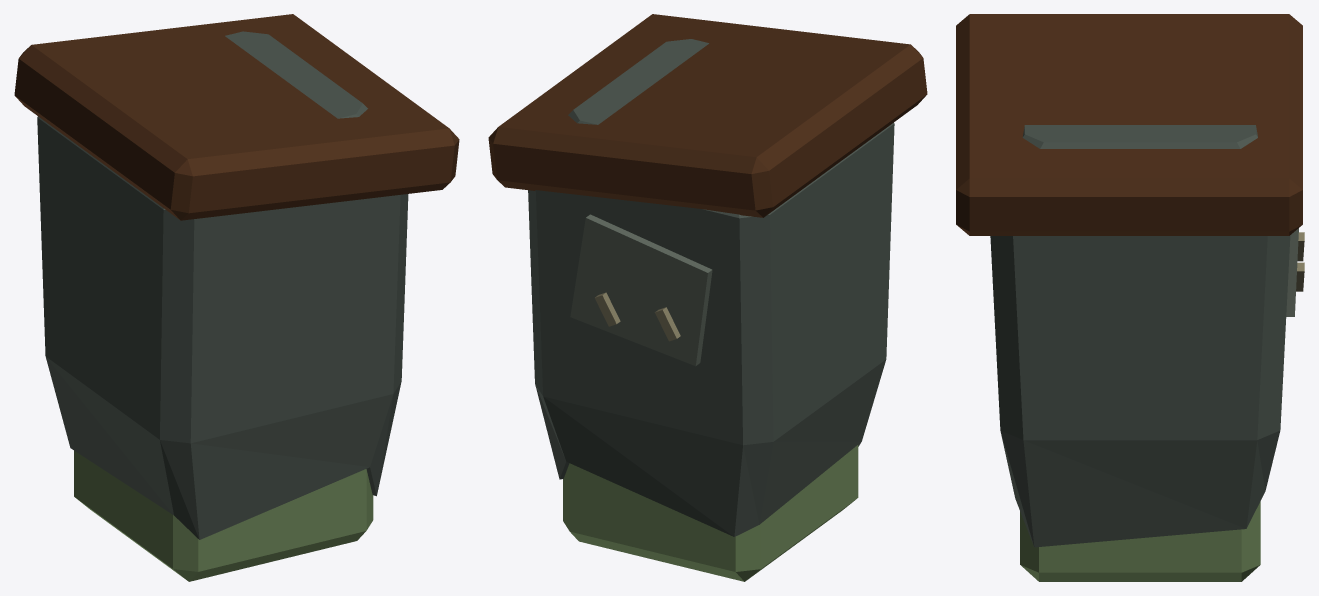
The model's file is ArmRight.glb.
The picture shows the model from 3 angles, left to right: view 1: azimuth 30°, elevation 25°; view 2: azimuth 150°, elevation 25°; view 3: azimuth 270°, elevation 25°; orthographic projection. The views are drawn at different scales.
Visible parts, largest first — view 1: Sculpture; view 2: Sculpture; view 3: Sculpture.
Boxes of the visible parts, <box> form: Sculpture: <box>14,14,459,581</box>; Sculpture: <box>488,14,927,581</box>; Sculpture: <box>956,14,1304,581</box>.
Size of the model in its own units: 0.2508 by 0.3785 by 0.2564.
